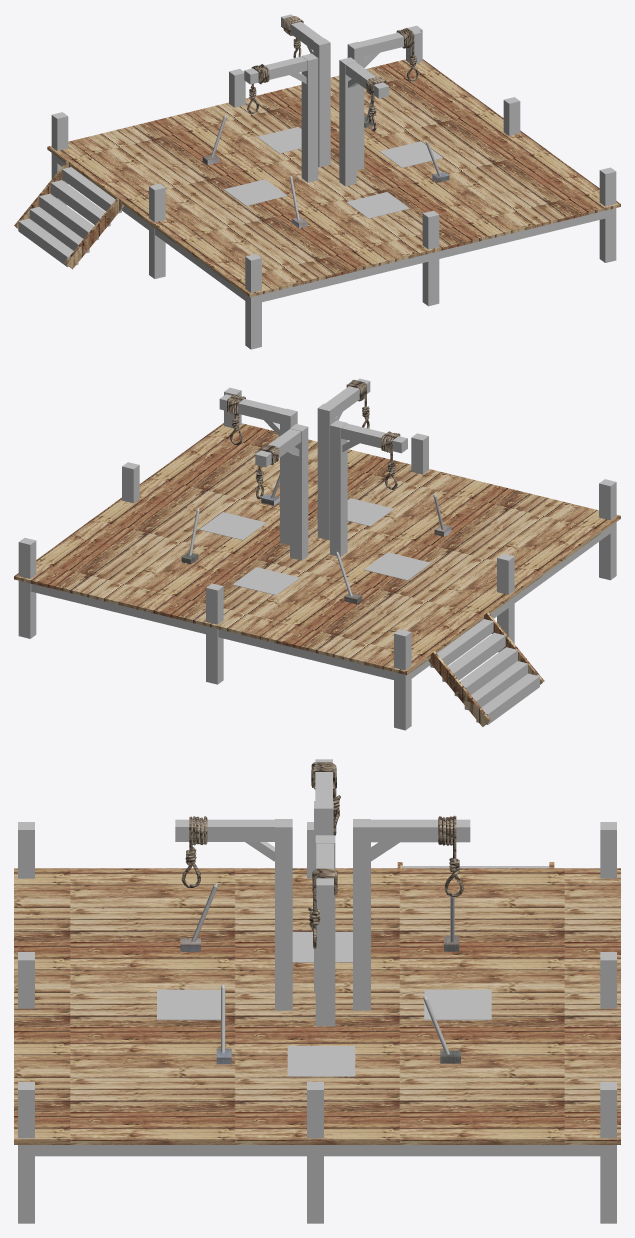
File: Potence2.FBX
3 renders of one model, top to bottom at view 1: azimuth 30°, elevation 25°; view 2: azimuth 150°, elevation 25°; view 3: azimuth 270°, elevation 25°, orthographic. The views are drawn at different scales.
Visible parts, largest first — view 1: Object004; view 2: Object004; view 3: Object004.
Boxes of the visible parts, x1,y1,x2,y2 form: Object004: (14,14,620,349); Object004: (14,378,620,730); Object004: (14,759,620,1223).
Size of the model in its own units: 500 by 202 by 410.
